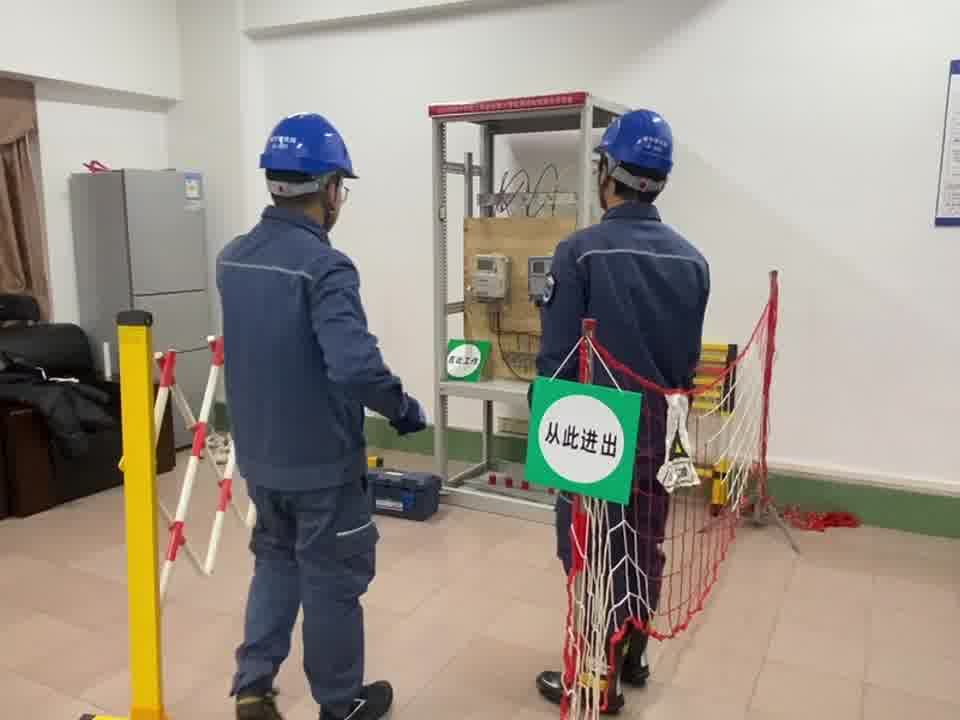downsuit: (234, 494, 378, 715)
glove: (393, 393, 428, 436)
halt: (258, 111, 358, 225), (592, 108, 677, 203)
inear: (315, 171, 346, 223)
intosign: (524, 372, 644, 502)
person: (209, 108, 430, 720), (528, 103, 717, 720)
shoe: (536, 611, 651, 716)
sleeve: (542, 271, 556, 305)
upsuit: (217, 207, 407, 479), (534, 209, 708, 395)
worksign: (441, 337, 492, 383)
